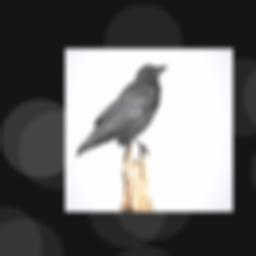Crow: (77, 64, 169, 158)
